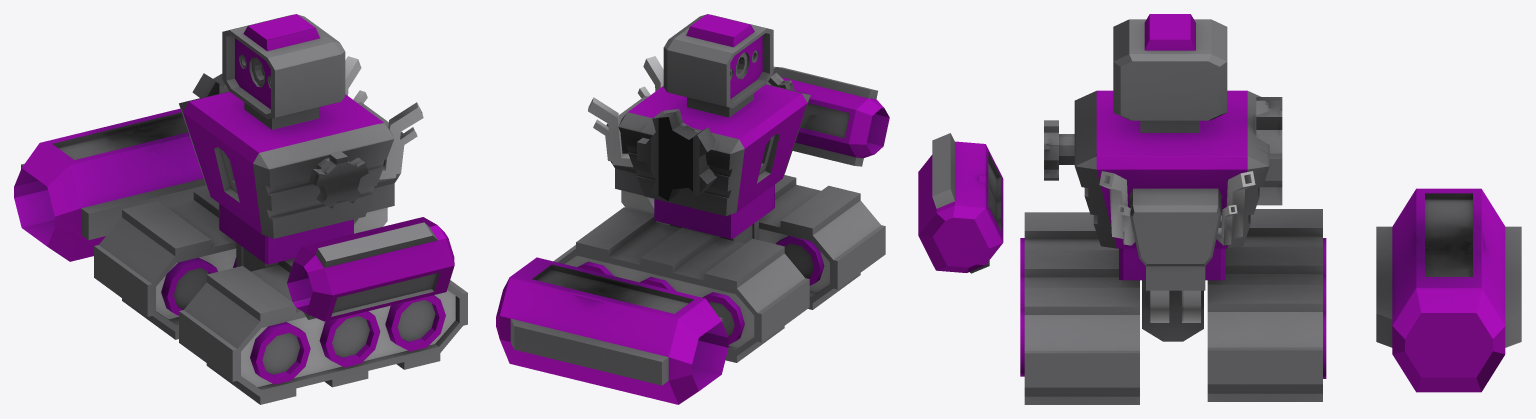
The model's file is Enemy2_Die12.obj.
3 renders of one model, left to right at view 1: azimuth 30°, elevation 25°; view 2: azimuth 150°, elevation 25°; view 3: azimuth 270°, elevation 25°, orthographic. The views are drawn at different scales.
Parts seen in each view (by area): view 1: Object006, Object013, Object011, Object014, Object012, Object010, Object008, Object009; view 2: Object006, Object011, Object013, Object012, Object014, Object009, Object010; view 3: Object006, Object011, Object013, Object012, Object010, Object014, Object009, Object008.
Boxes of the visible parts, left/top/right/bottom form: Object006: left=94, top=189, right=467, bottom=404; Object013: left=179, top=91, right=393, bottom=271; Object011: left=14, top=108, right=206, bottom=261; Object014: left=287, top=217, right=454, bottom=321; Object012: left=222, top=14, right=345, bottom=129; Object010: left=345, top=56, right=423, bottom=233; Object008: left=309, top=151, right=368, bottom=208; Object009: left=192, top=73, right=228, bottom=97; Object006: left=553, top=175, right=885, bottom=362; Object011: left=496, top=257, right=728, bottom=404; Object013: left=618, top=84, right=810, bottom=243; Object012: left=663, top=14, right=773, bottom=117; Object014: left=776, top=67, right=889, bottom=166; Object009: left=637, top=109, right=716, bottom=200; Object010: left=588, top=56, right=669, bottom=225; Object006: left=1020, top=209, right=1326, bottom=404; Object011: left=1376, top=188, right=1521, bottom=392; Object013: left=1074, top=90, right=1269, bottom=341; Object012: left=1113, top=14, right=1227, bottom=132; Object010: left=1099, top=171, right=1255, bottom=322; Object014: left=918, top=133, right=1003, bottom=273; Object009: left=1256, top=97, right=1282, bottom=205; Object008: left=1044, top=120, right=1074, bottom=180.
Bounding box in the file's own units: 87.45 × 108 × 179.
